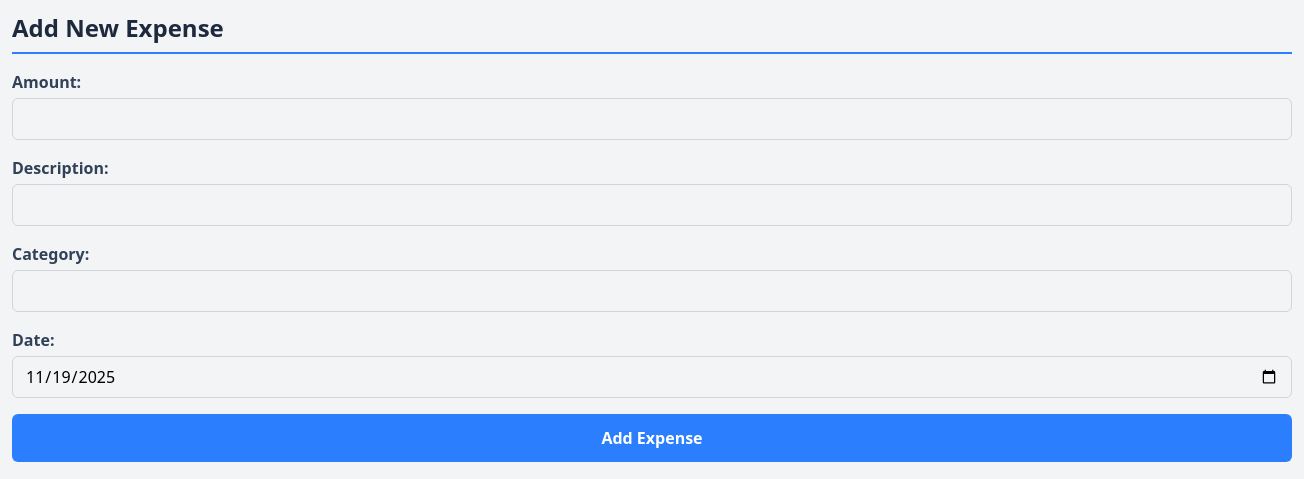
Test: ExpenseForm › shows loading state while submitting
Type "50.00" into the number field labelled "Amount:" at (652, 119), box [12, 98, 1292, 140]
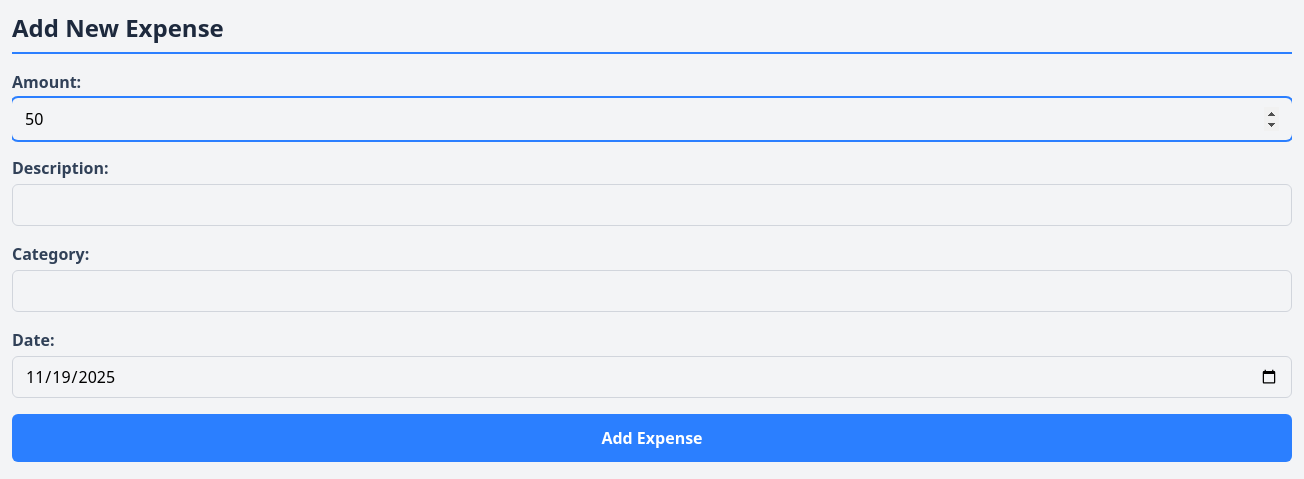
Type "Groceries" into the field labelled "Description:" at (652, 205), box [12, 184, 1292, 226]
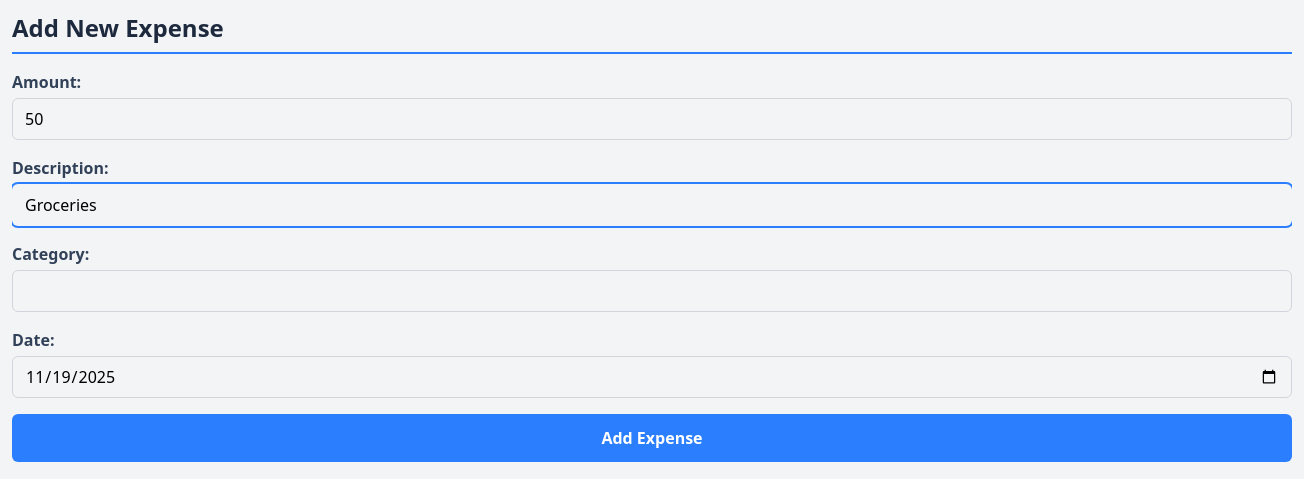
Type "Food" into the field labelled "Category:" at (652, 291), box [12, 270, 1292, 312]
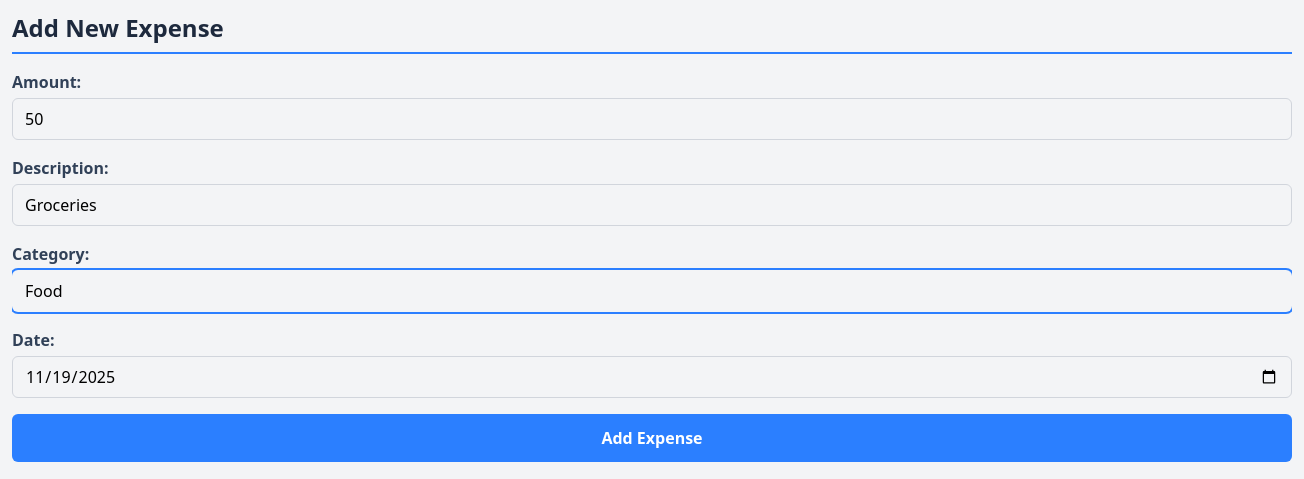
Click the button "Add Expense" at (652, 438), box [12, 414, 1292, 462]
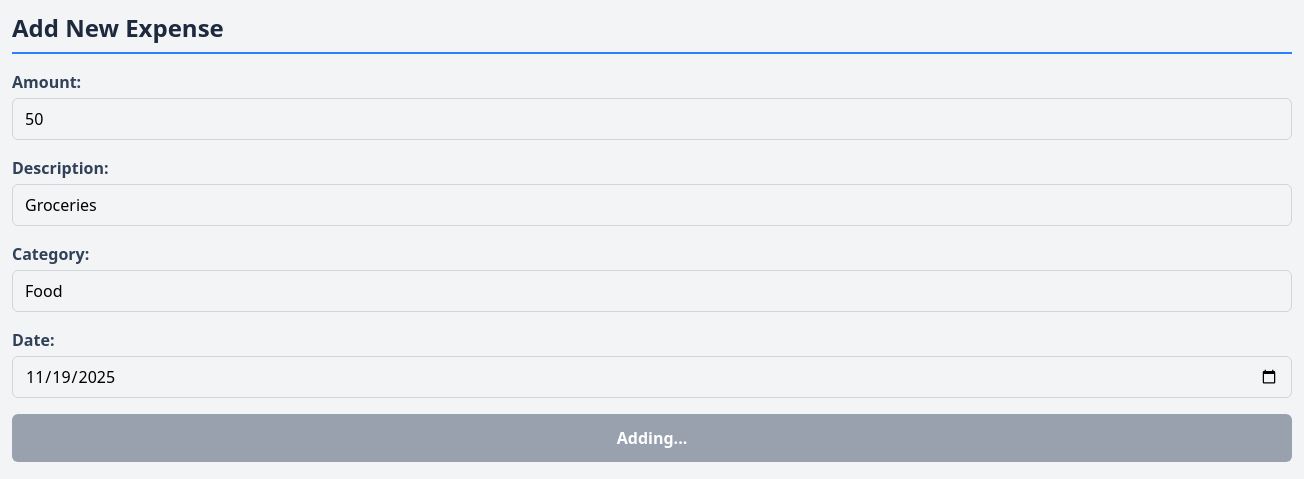
Expected: the button "Adding..." is disabled, [12, 414, 1292, 462]
